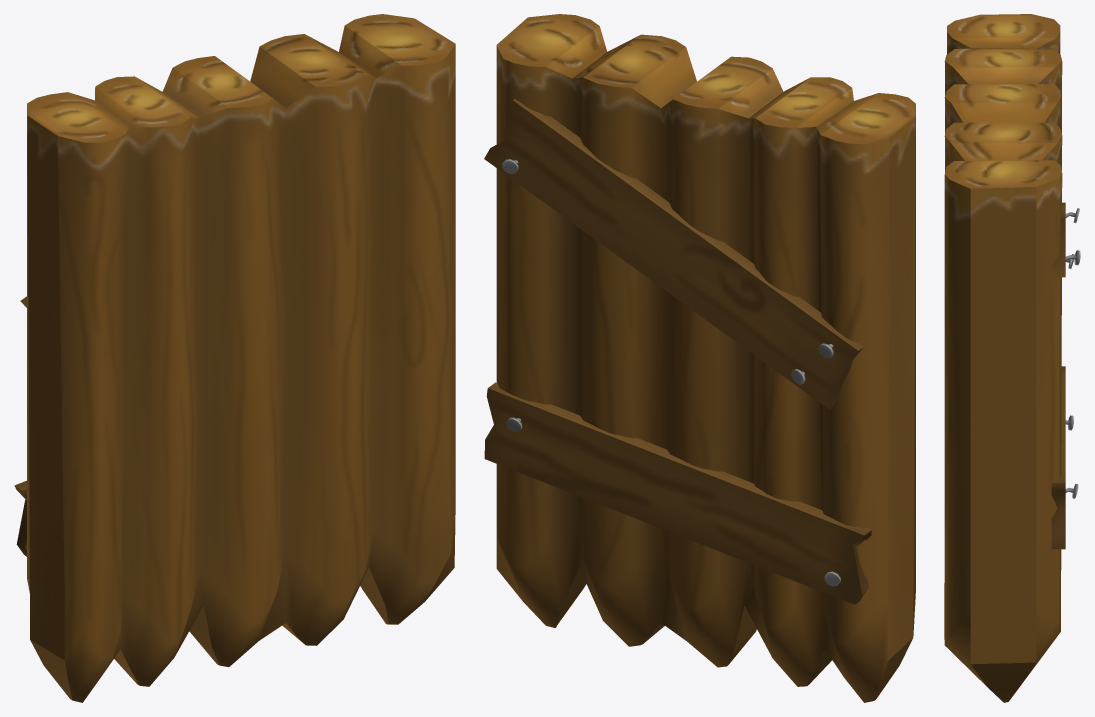
Rendered from Gate Door.fbx.
3 views of the same model, side by side, from view 1: azimuth 30°, elevation 25°; view 2: azimuth 150°, elevation 25°; view 3: azimuth 270°, elevation 25° (orthographic). The views are drawn at different scales.
Parts seen in each view (by area): view 1: polySurface16; view 2: polySurface16; view 3: polySurface16.
Boxes of the visible parts, x1,y1,x2,y2 form: polySurface16: (14, 14, 455, 702); polySurface16: (484, 14, 915, 702); polySurface16: (944, 14, 1080, 702).
Bounding box in the file's own units: 3.29 × 4.67 × 1.09.
